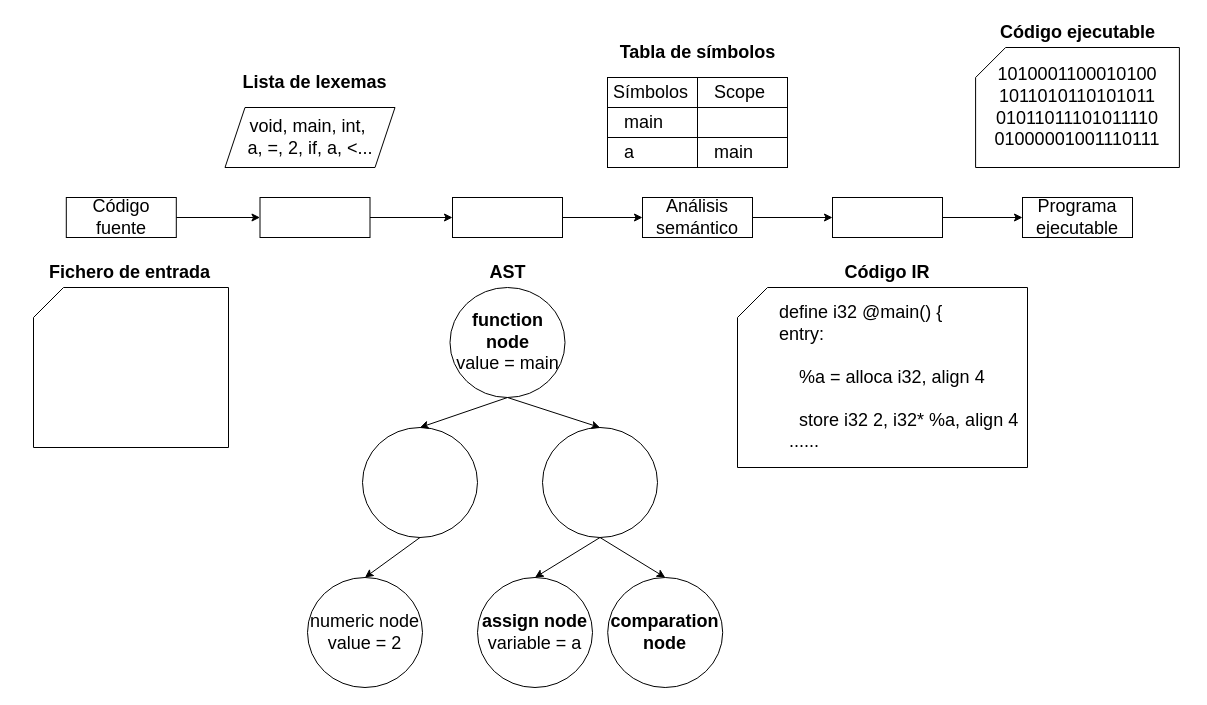
Some shapes in this 1207 by 705 pixel diagram are drawn without their labels. Here are the shapes that lost their labels. From the top down, the centre of each, then its label:
At point (314, 217): "Análisis léxico".
At point (507, 217): "Análisis sintático".
At point (887, 217): "Generación de IR".
At point (130, 367): "void main(){ int a = 2; if(a<5){ a = a + 1; } }".
At point (420, 482): "assign node type = int variable = a".
At point (600, 482): "conditional node".
